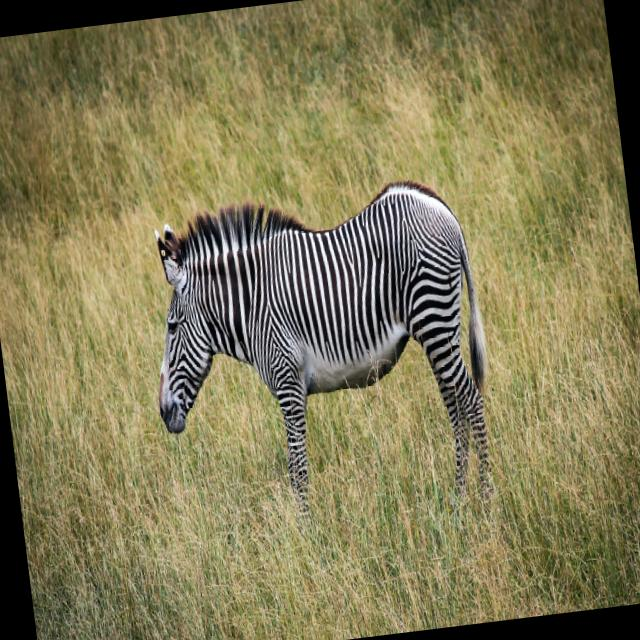zebra: (43, 39, 544, 570)
